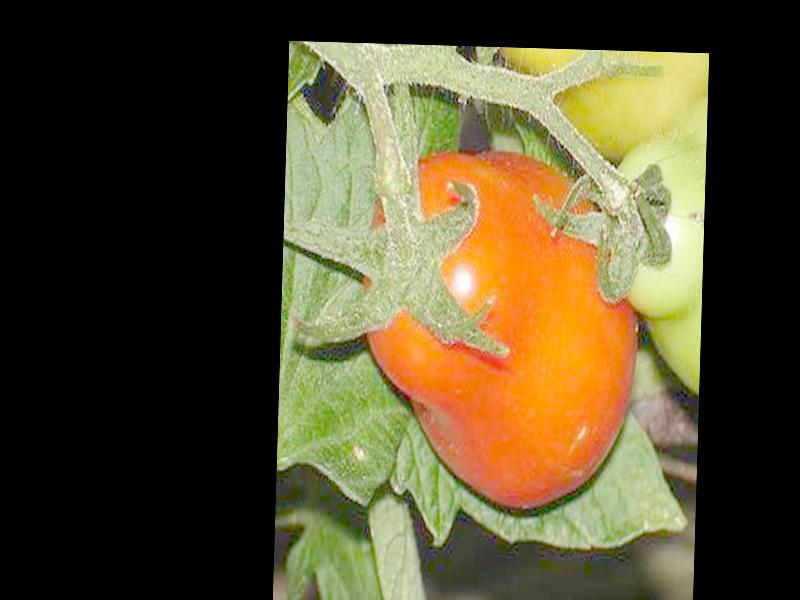Tomato: (357, 151, 641, 513)
